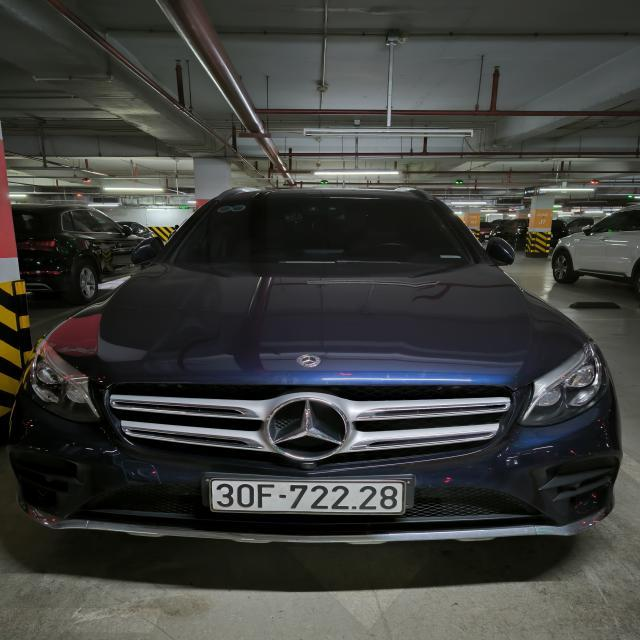license: (203, 474, 413, 516)
